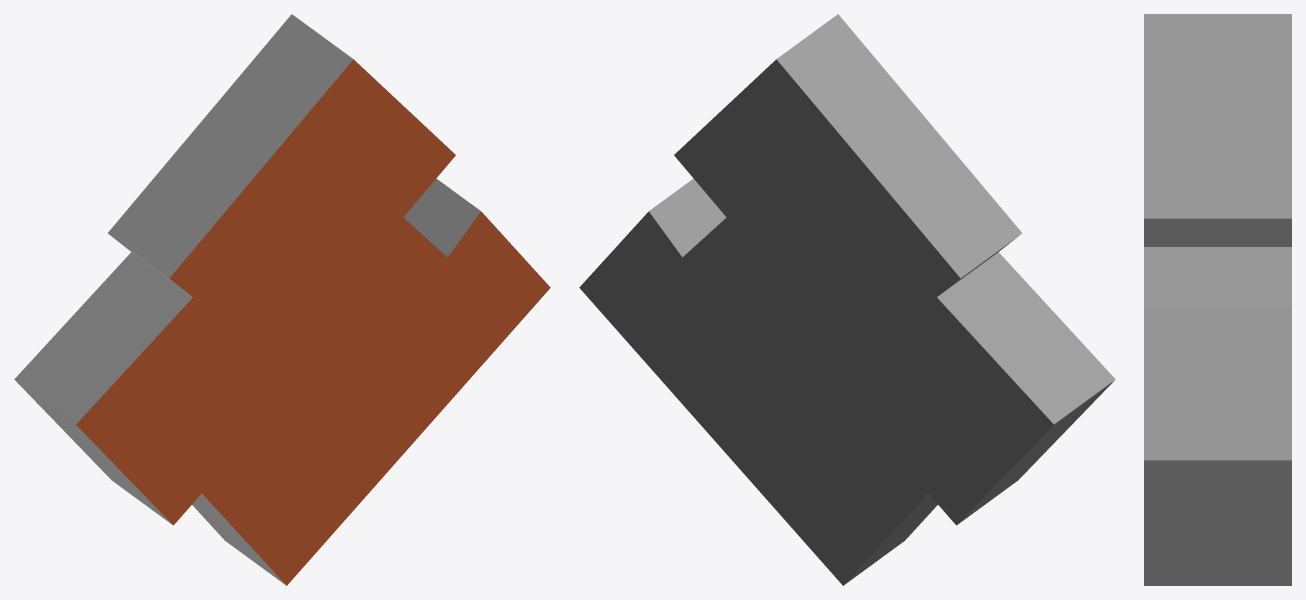
File: construction_6712_assumed_A_Casa_h6m.obj
3 renders of one model, left to right at view 1: azimuth 30°, elevation 25°; view 2: azimuth 150°, elevation 25°; view 3: azimuth 270°, elevation 25°, orthographic. The views are drawn at different scales.
Visible parts, largest first — view 1: construction_6712_assumed_A_Casa; view 2: construction_6712_assumed_A_Casa; view 3: construction_6712_assumed_A_Casa.
Part boxes in pixels (box(x1,y1,x2,y2)): construction_6712_assumed_A_Casa: box(14, 14, 550, 585); construction_6712_assumed_A_Casa: box(579, 14, 1115, 585); construction_6712_assumed_A_Casa: box(1144, 14, 1291, 585).
Bounding box in the file's own units: 26.62 × 27.35 × 6.
